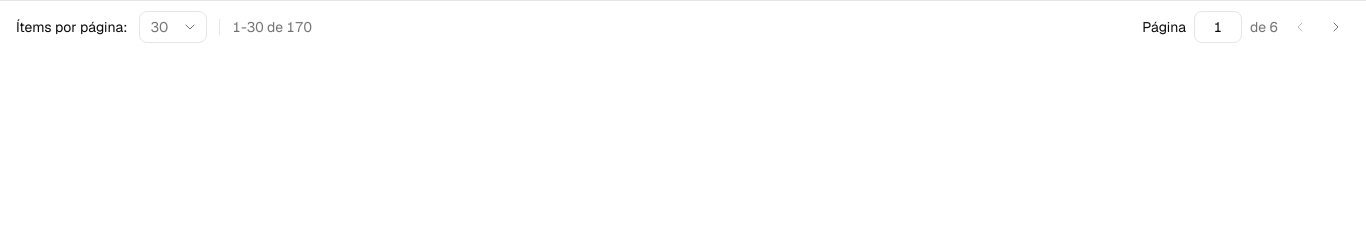
Test: PaginadorLista estilo Alegra › elegir otro tamaño en el selector navega a la página 1 con el nuevo tamaño
Later steps or results of the test are not shown.
Click the dropdown named "Ítems por página:".
click(174, 27)  # box [140,11,208,43]
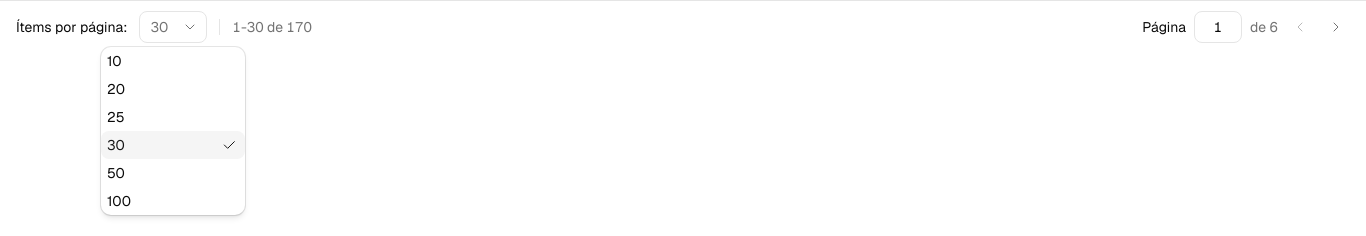
Check: the option "50" is shown, box [107,164,125,182]
